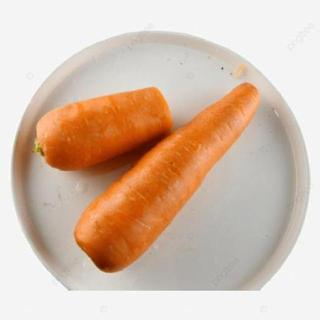carrot: (73, 80, 264, 273), (32, 84, 176, 172)
